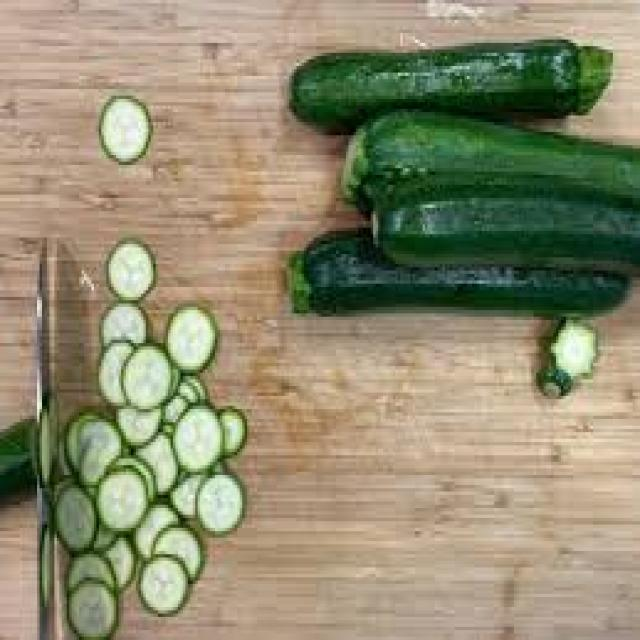Zucchini: (297, 35, 613, 128)
